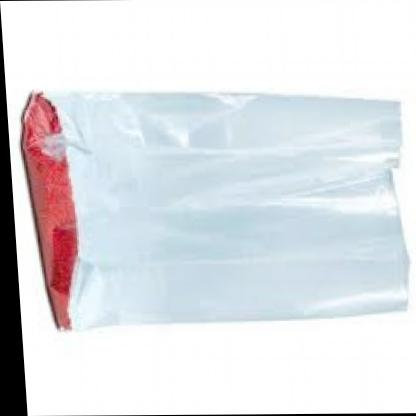Plastic: (4, 79, 416, 379)
